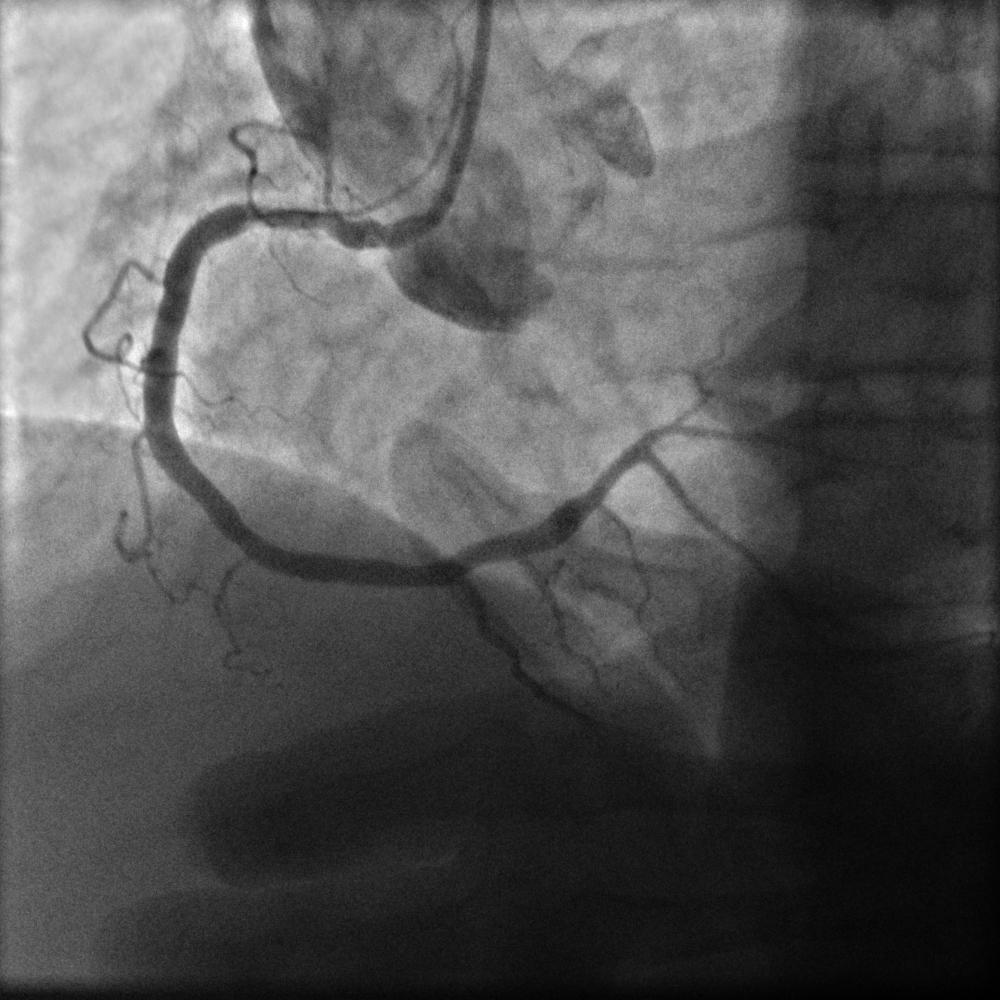Stenosis: (239, 195, 341, 243)
